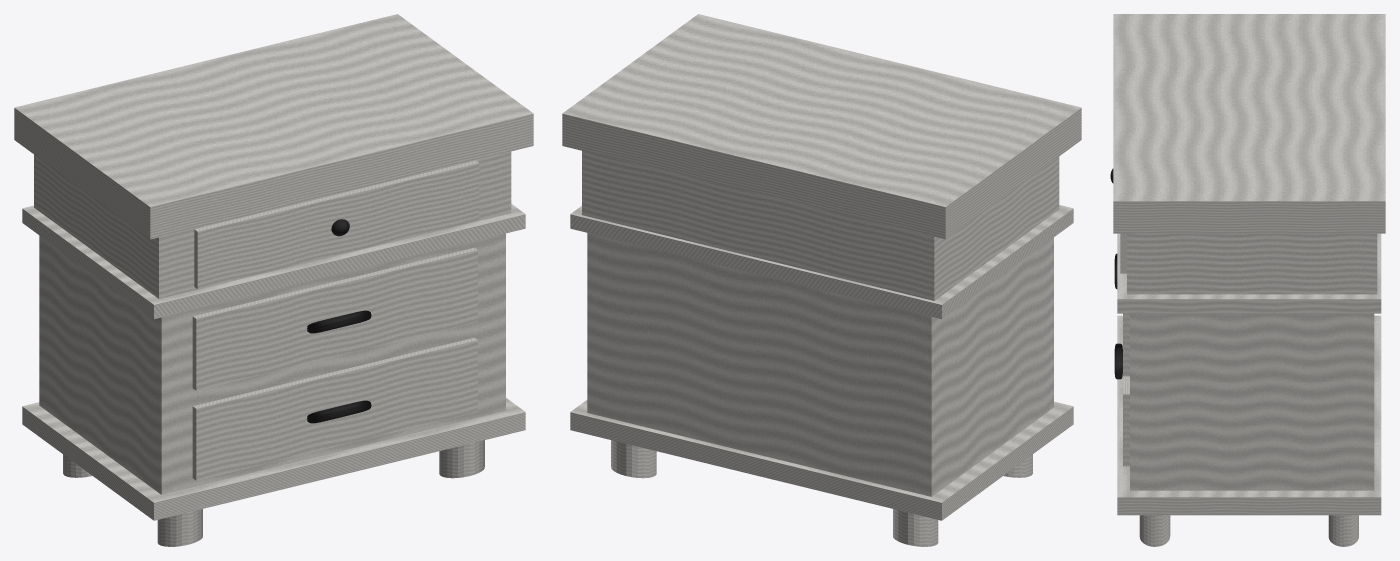
The picture shows the model from 3 angles, left to right: view 1: azimuth 30°, elevation 25°; view 2: azimuth 150°, elevation 25°; view 3: azimuth 270°, elevation 25°; orthographic projection.
Visible parts, largest first — view 1: 1 top_panel, 4 lower_body, 12 drawer_bot, 11 drawer_mid, 10 drawer_top, 5 base_molding, 2 upper_body, 3 mid_molding, 7 foot_fr, 6 foot_fl, 14 pull_mid, 15 pull_bot; view 2: 4 lower_body, 1 top_panel, 2 upper_body, 5 base_molding, 3 mid_molding, 9 foot_br, 8 foot_bl; view 3: 1 top_panel, 4 lower_body, 2 upper_body, 5 base_molding, 3 mid_molding, 7 foot_fr, 9 foot_br, 12 drawer_bot, 11 drawer_mid.
Boxes of the visible parts, box(x1,y1,x2,y2) form: 1 top_panel: box(14, 14, 533, 239); 4 lower_body: box(39, 233, 505, 494); 12 drawer_bot: box(192, 337, 477, 480); 11 drawer_mid: box(192, 247, 477, 390); 10 drawer_top: box(194, 160, 479, 289); 5 base_molding: box(22, 398, 525, 520); 2 upper_body: box(34, 151, 511, 298); 3 mid_molding: box(22, 204, 525, 319); 7 foot_fr: box(439, 440, 484, 478); 6 foot_fl: box(157, 509, 202, 546); 14 pull_mid: box(307, 310, 371, 333); 15 pull_bot: box(307, 400, 371, 423); 4 lower_body: box(587, 233, 1053, 496); 1 top_panel: box(562, 14, 1081, 239); 2 upper_body: box(582, 151, 1059, 300); 5 base_molding: box(570, 400, 1073, 520); 3 mid_molding: box(570, 205, 1073, 319); 9 foot_br: box(611, 440, 656, 478); 8 foot_bl: box(893, 509, 938, 546); 1 top_panel: box(1113, 14, 1385, 233); 4 lower_body: box(1130, 313, 1374, 490); 2 upper_body: box(1127, 233, 1377, 294); 5 base_molding: box(1117, 315, 1381, 515); 3 mid_molding: box(1117, 233, 1381, 313); 7 foot_fr: box(1139, 515, 1170, 546); 9 foot_br: box(1328, 515, 1358, 546); 12 drawer_bot: box(1123, 376, 1129, 466); 11 drawer_mid: box(1123, 313, 1129, 376).
Size of the model in its own units: 0.7366 by 0.6604 by 0.4572.
Materials: 2 (1 with a texture image).
